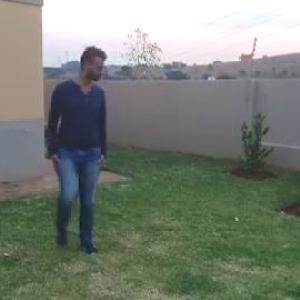follow: (44, 34, 125, 274)
